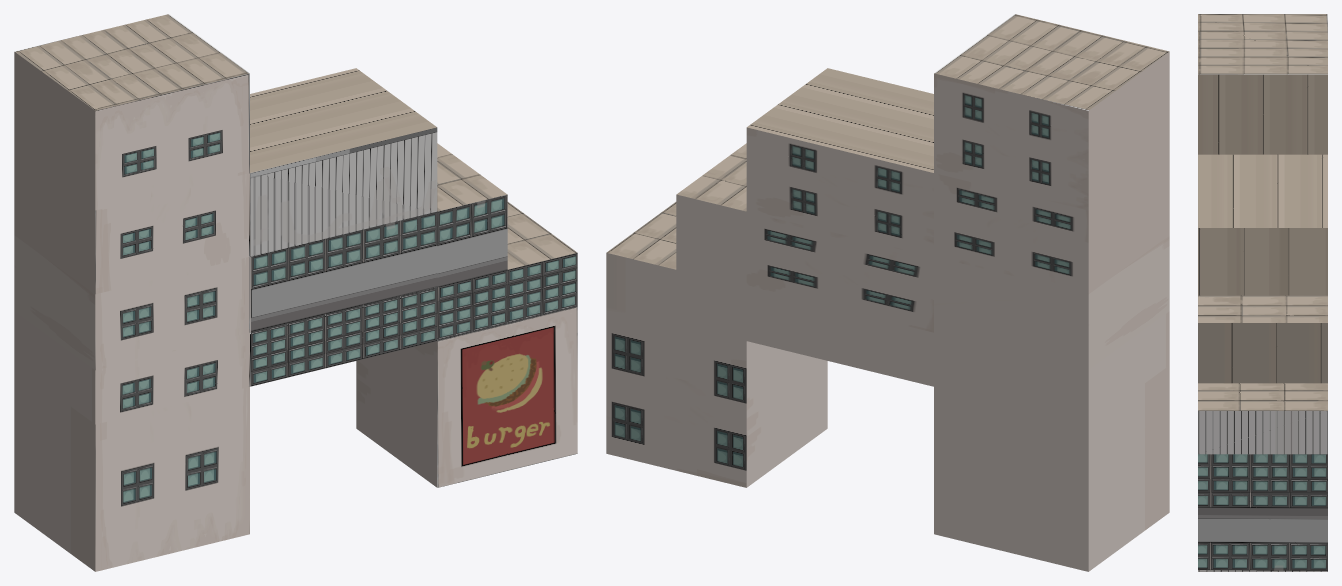
File: building6.glb
3 views of the same model, side by side, from view 1: azimuth 30°, elevation 25°; view 2: azimuth 150°, elevation 25°; view 3: azimuth 270°, elevation 25° (orthographic). The views are drawn at different scales.
Parts seen in each view (by area): view 1: Cube; view 2: Cube; view 3: Cube.
Boxes of the visible parts, x1,y1,x2,y2 form: Cube: [14, 14, 577, 571]; Cube: [606, 14, 1169, 571]; Cube: [1198, 14, 1327, 571].
Size of the model in its own units: 6.87 by 6.28 by 2.
Materials: 1 (1 with a texture image).
